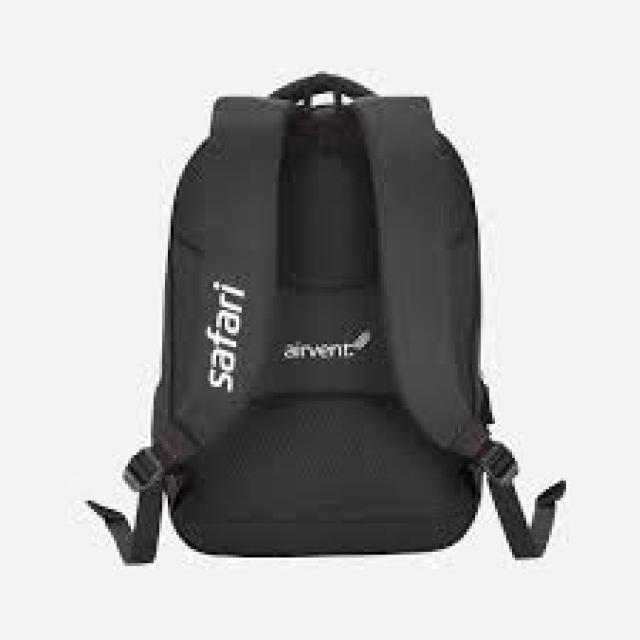backpack: (86, 69, 567, 564)
